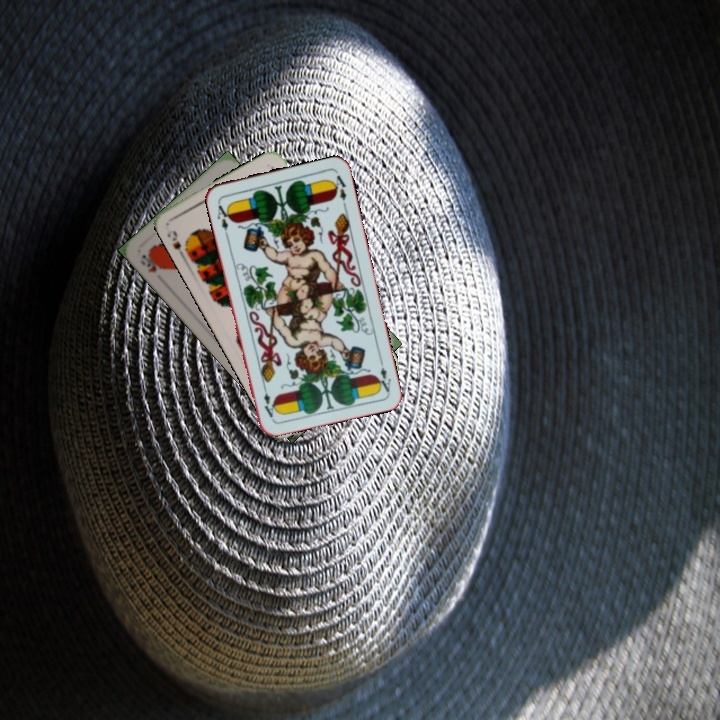EA: (373, 354, 394, 394), (213, 198, 234, 233)
HO: (136, 249, 167, 275)
S9: (168, 226, 191, 262)
